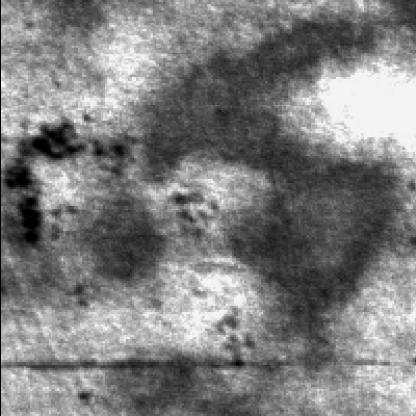inclusion: (13, 112, 110, 240)
patches: (146, 11, 406, 336), (5, 187, 168, 293)
